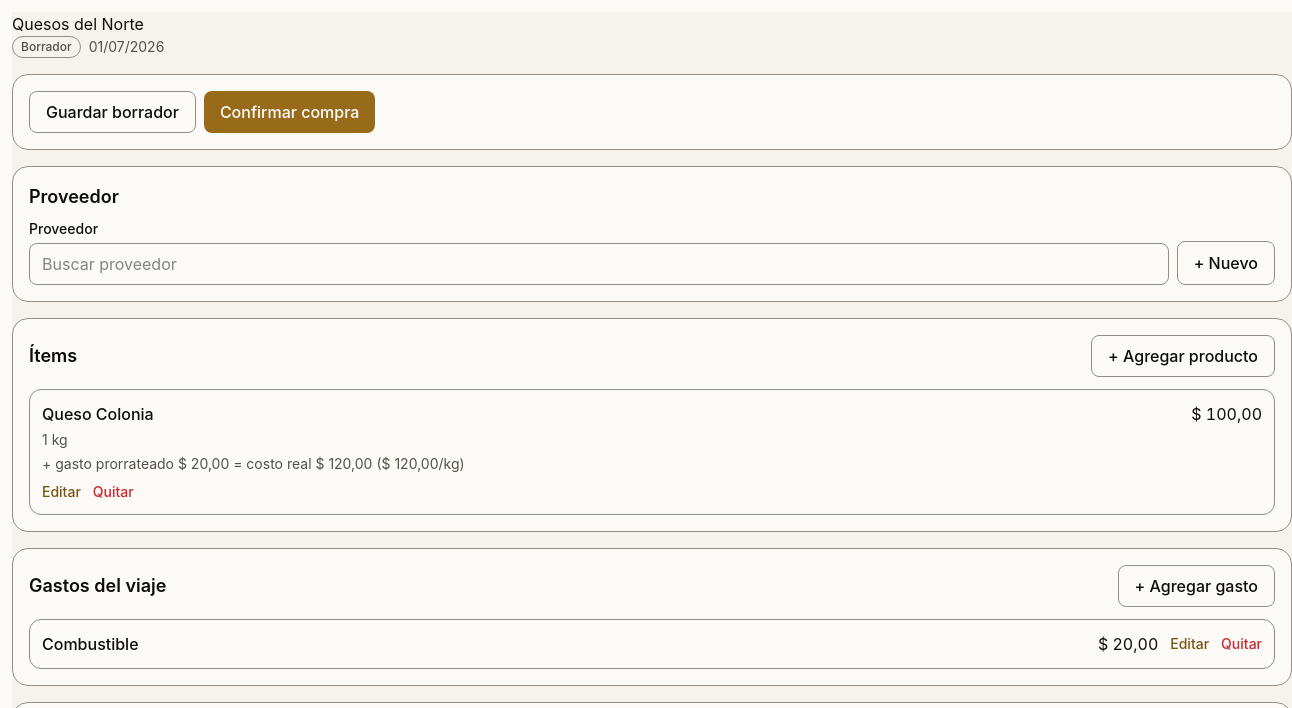
it: CompraPantalla › B1: quitar el último ítem con un gasto ya cargado no crashea
Click the button "Quitar" below "Queso Colonia" at point(113, 492), box [93, 482, 134, 502]
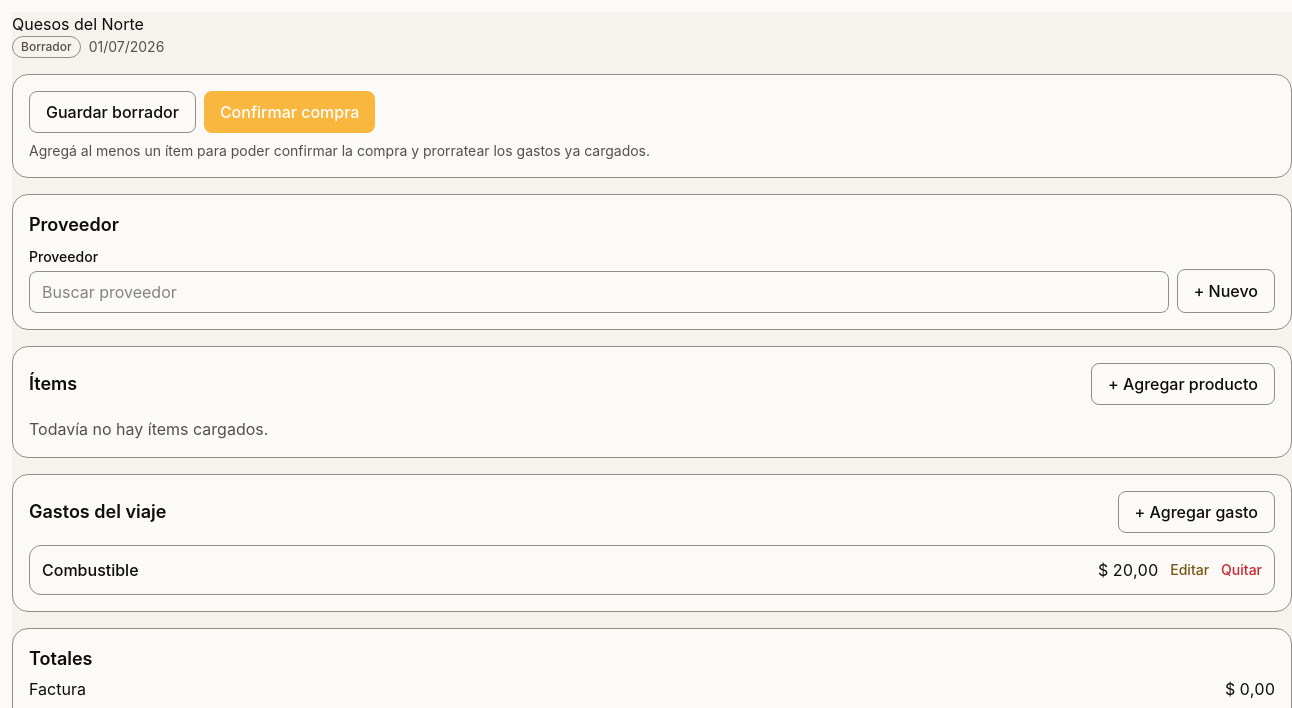
Expected: the text "combustible" is shown, [42, 558, 138, 582]
Now the text "Todavía no hay ítems cargados." is shown, box [29, 419, 268, 439]
Now the button "Confirmar compra" is disabled, box [204, 91, 375, 133]
